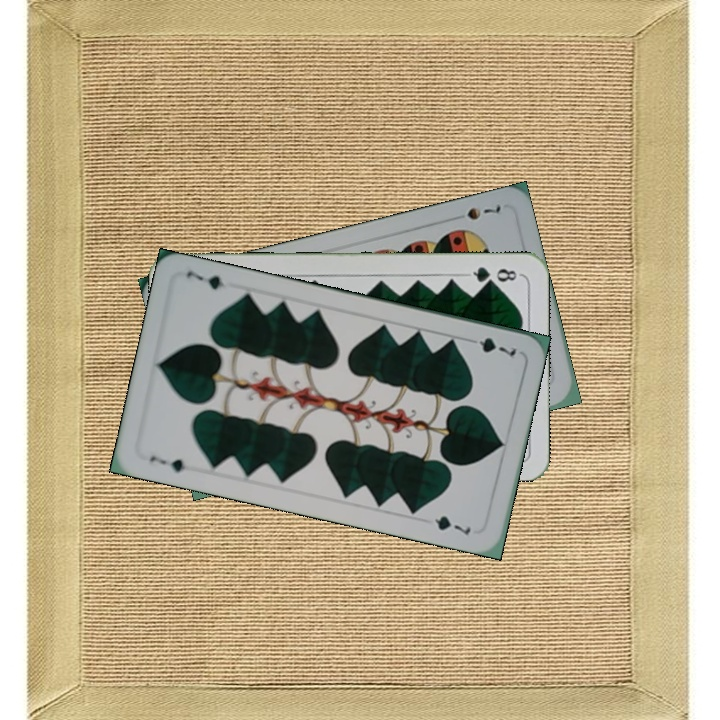G7: (462, 333, 519, 359), (145, 451, 188, 475)
G8: (464, 262, 523, 286)
S7: (463, 201, 504, 223)
